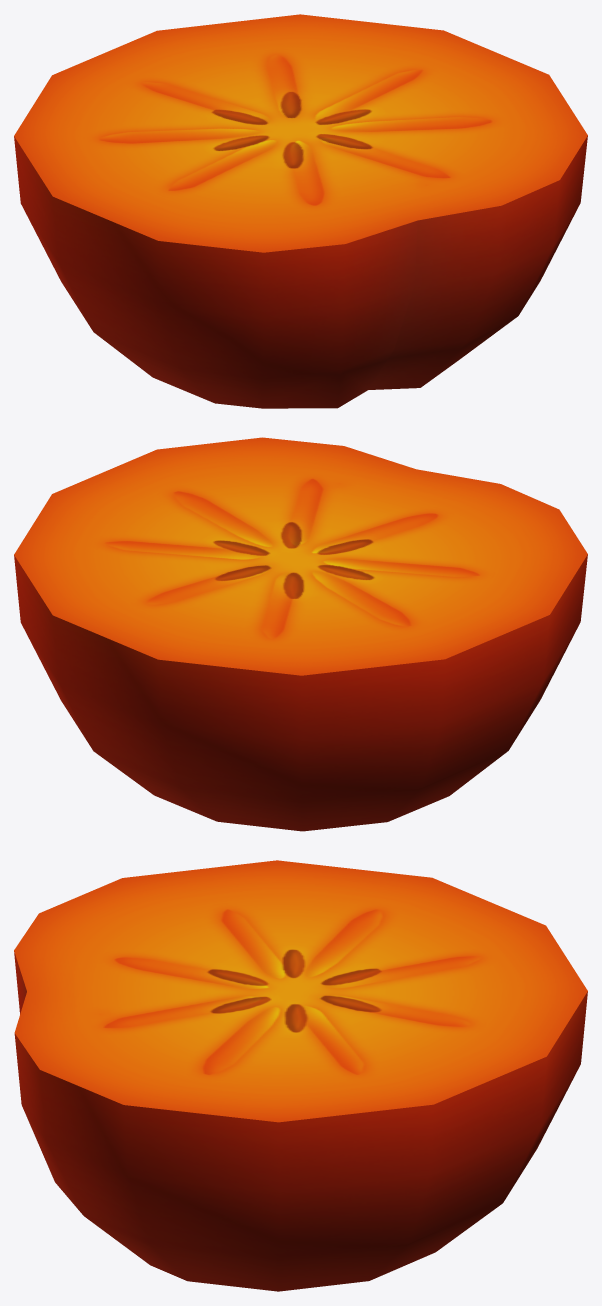
File: Persimmon_Red_Half.fbx
3 renders of one model, top to bottom at view 1: azimuth 30°, elevation 25°; view 2: azimuth 150°, elevation 25°; view 3: azimuth 270°, elevation 25°, orthographic. The views are drawn at different scales.
Parts seen in each view (by area): view 1: Persimmon_Red_Half; view 2: Persimmon_Red_Half; view 3: Persimmon_Red_Half.
Part boxes in pixels (x1,y1,x2,y2): Persimmon_Red_Half: (14, 14, 587, 408); Persimmon_Red_Half: (14, 437, 587, 831); Persimmon_Red_Half: (14, 860, 587, 1291).
Size of the model in its own units: 30.14 by 14.12 by 27.9.
Materials: 1 (1 with a texture image).
